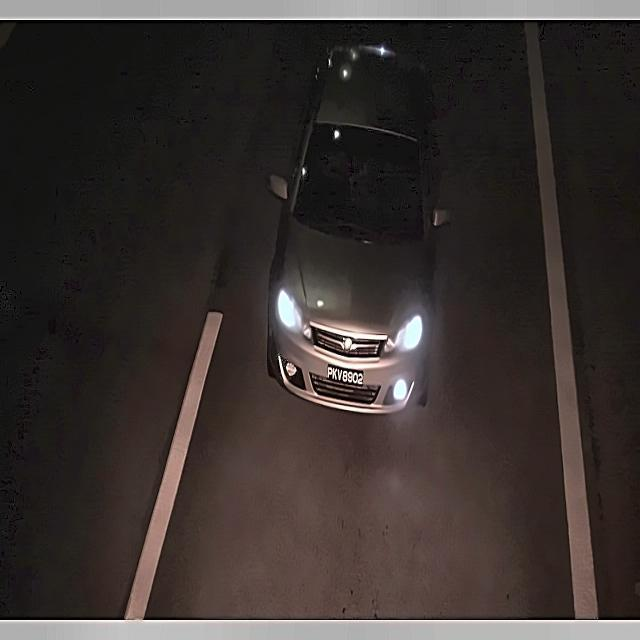car: (322, 355, 368, 394)
